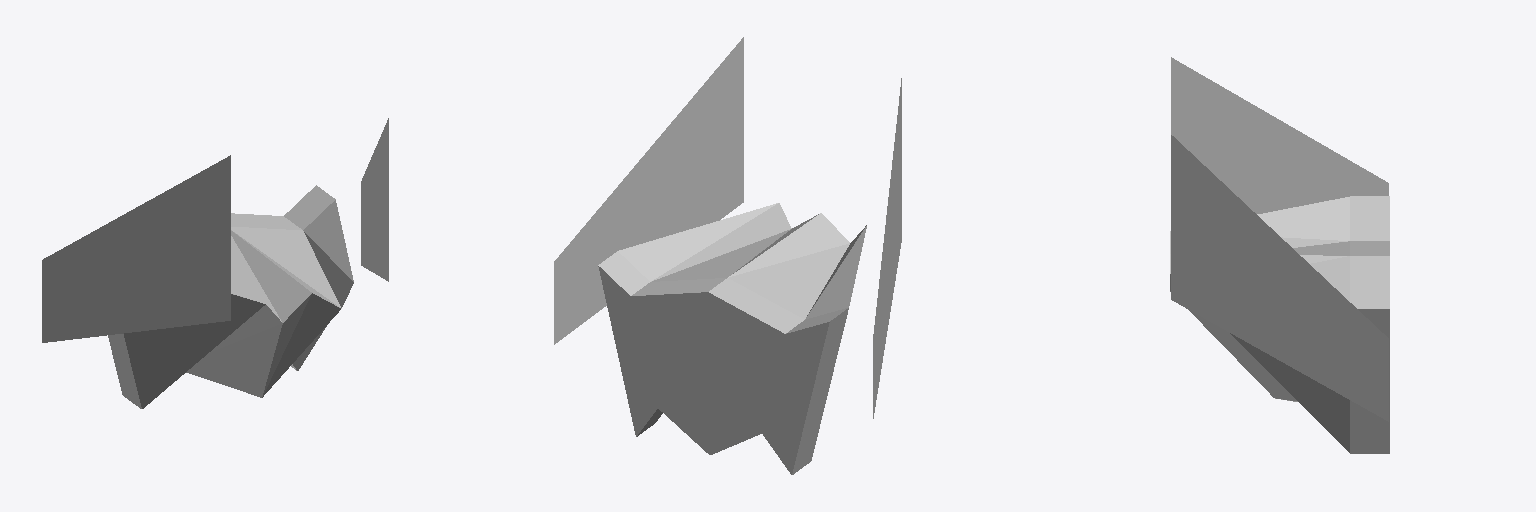
File: bruteHead.obj
The picture shows the model from 3 angles: view 1: azimuth 30°, elevation 25°; view 2: azimuth 150°, elevation 25°; view 3: azimuth 270°, elevation 25°; orthographic projection.
Visible parts, largest first — view 1: Object.1; view 2: Object.1; view 3: Object.1.
Part boxes in pixels (x1,y1,x2,y2): Object.1: (42, 118, 388, 408); Object.1: (554, 37, 901, 474); Object.1: (1170, 57, 1389, 453).
Bounding box in the file's own units: 102 × 98.3 × 60.85.